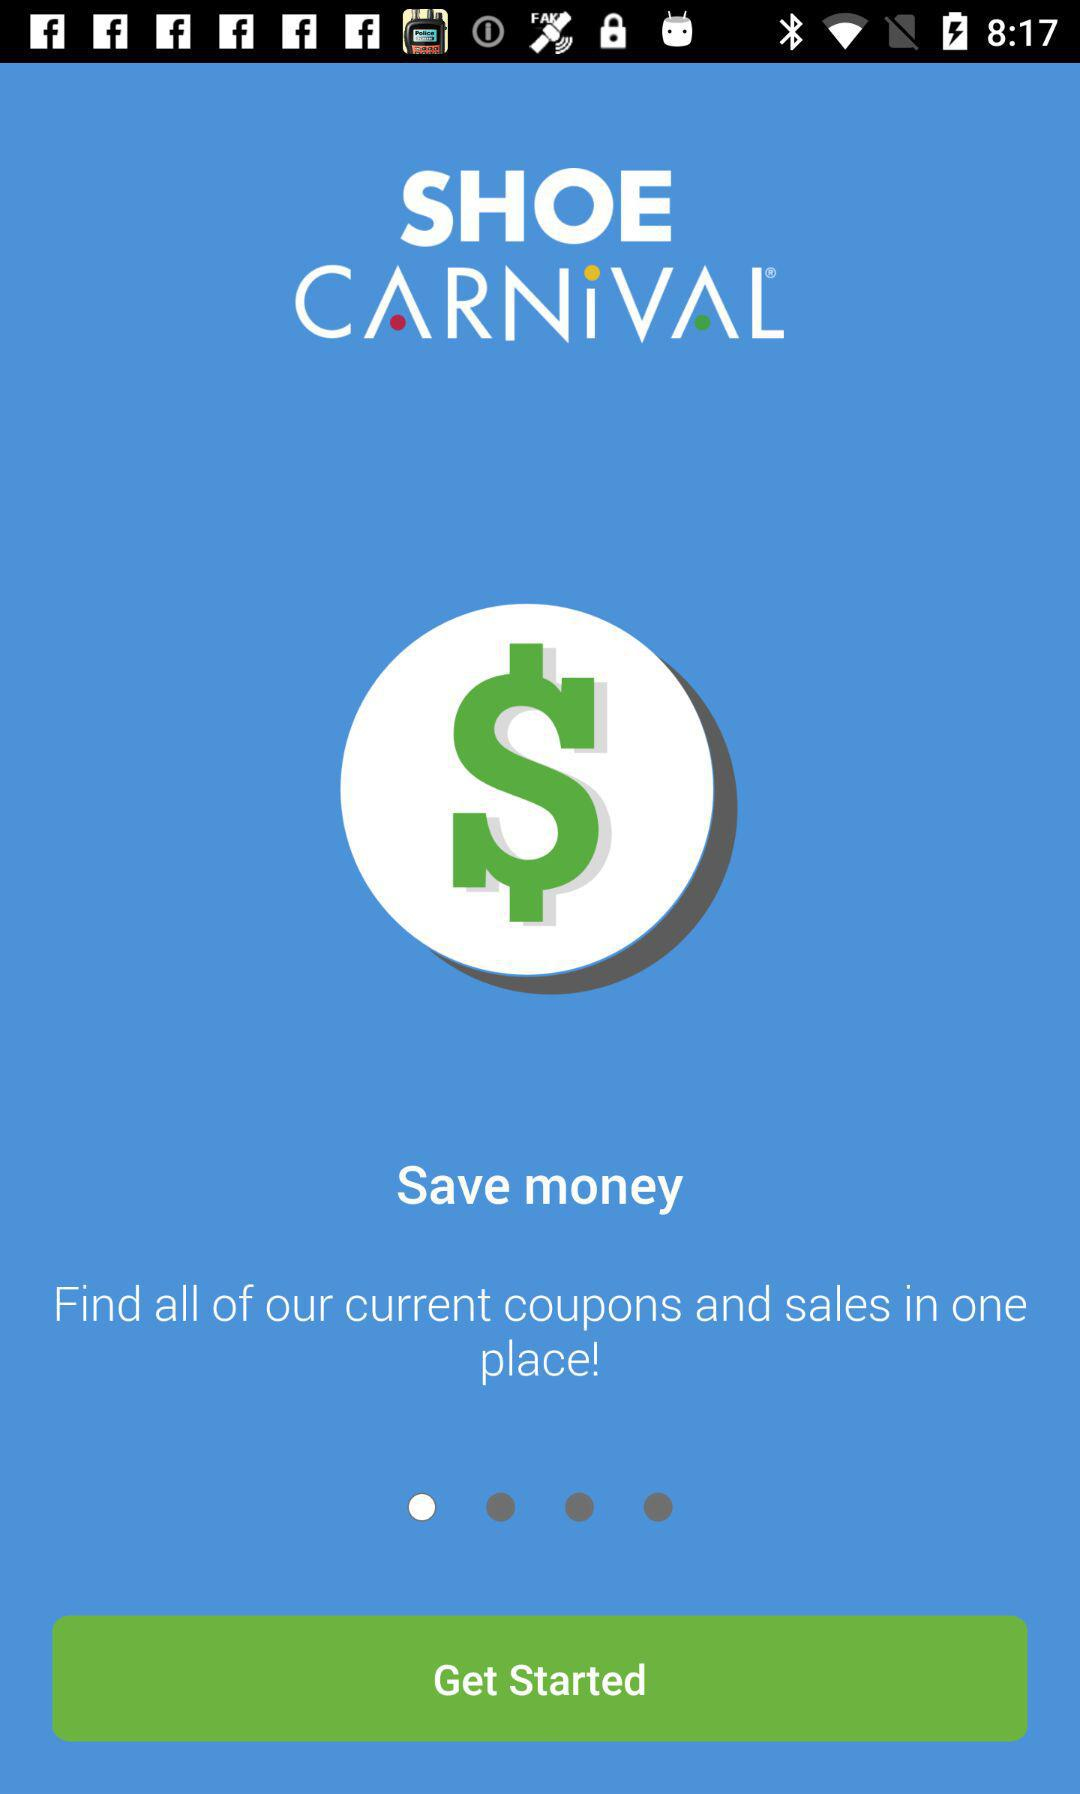Image: (340, 602, 737, 996), (293, 168, 787, 343)
PageIndicator: (407, 1492, 676, 1524)
Text: (54, 1280, 1027, 1387), (396, 1164, 685, 1217)
TextButton: (53, 1615, 1029, 1743)
UpperTaskBar: (1, 1, 1080, 64)
